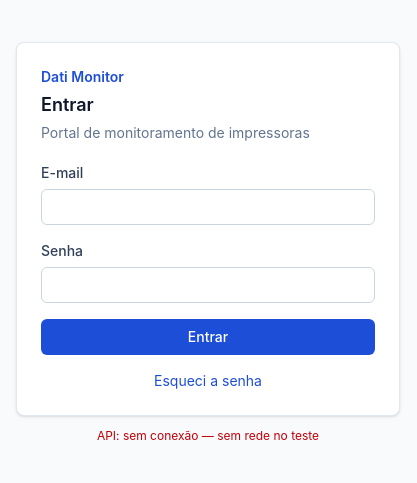
Test case: LoginPage › mostra na tela e no console o motivo da recusa
This screenshot has width=417, height=483.
In the field labelled "E-mail": (208, 207) top-left (41, 189), bottom-right (375, 225), type "x@y.z"
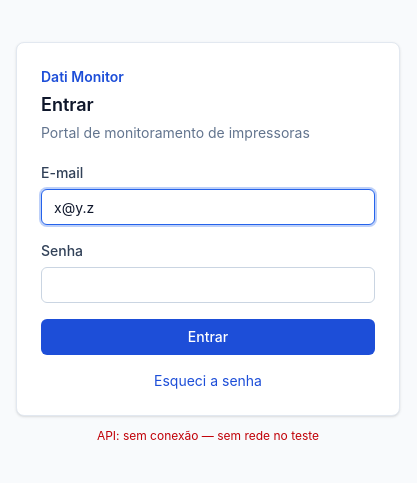
In the password field labelled "Senha": (208, 285) top-left (41, 267), bottom-right (375, 303), type "errada"
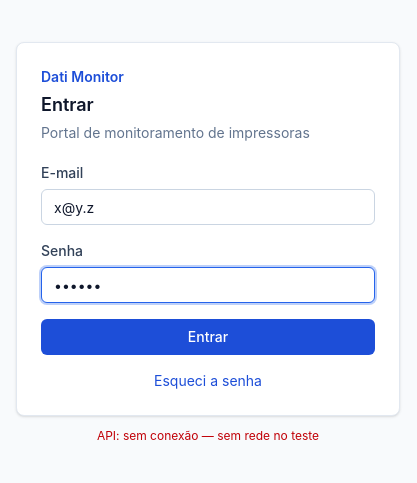
Click the button "Entrar": click(208, 337) top-left (41, 319), bottom-right (375, 355)
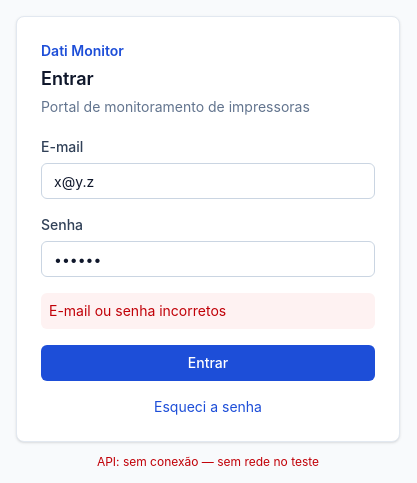
Check: the text "E-mail ou senha incorretos" is shown, box top-left (41, 293), bottom-right (375, 329)
